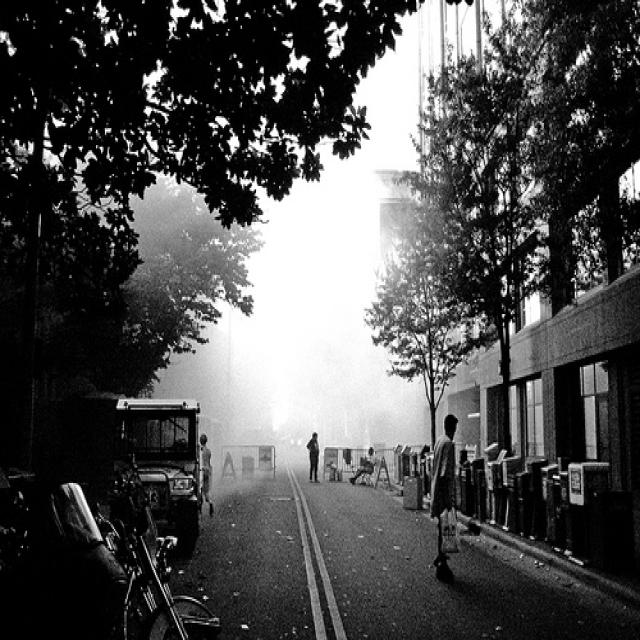motor: (85, 439, 223, 640)
